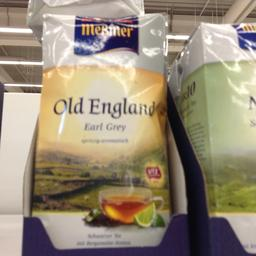tea: (33, 12, 169, 246), (176, 22, 255, 252)
